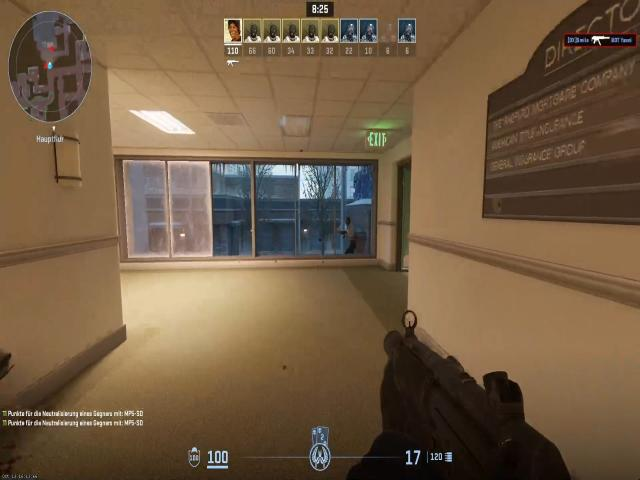T: (345, 216, 355, 250)
T-Head: (346, 214, 354, 228)
